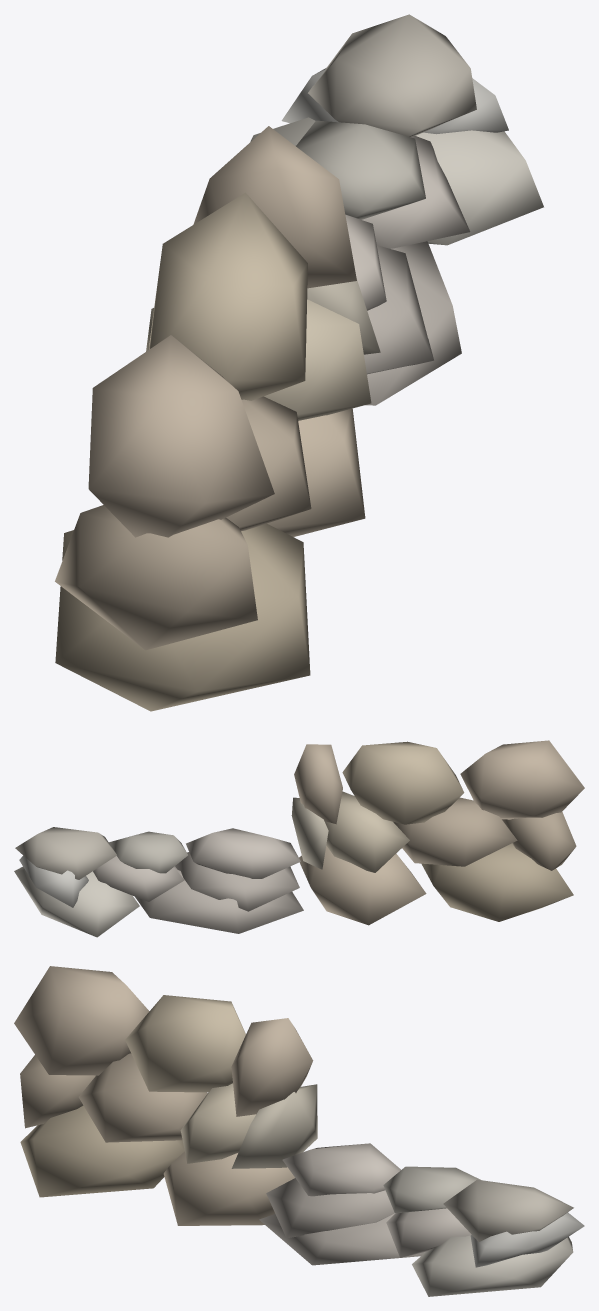
Rendered from farm_-33_-21_near.glb.
3 views of the same model, one above another, from view 1: azimuth 30°, elevation 25°; view 2: azimuth 150°, elevation 25°; view 3: azimuth 270°, elevation 25° (orthographic). The views are drawn at different scales.
Parts seen in each view (by area): view 1: geometry_0; view 2: geometry_0; view 3: geometry_0.
Boxes of the visible parts, x1,y1,x2,y2 form: geometry_0: [55, 14, 543, 711]; geometry_0: [14, 740, 584, 937]; geometry_0: [14, 966, 584, 1296].
Bounding box in the file's own units: 2.3 × 1.09 × 2.35.
